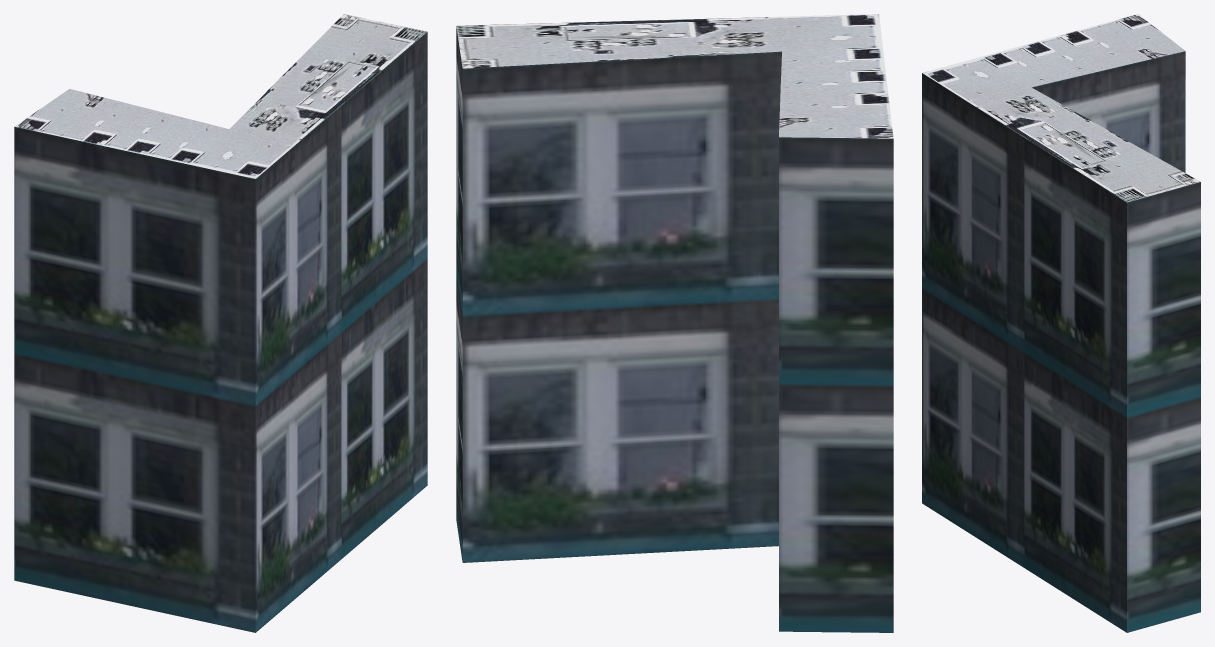
Rendered from ResTex__3564.fbx.
The picture shows the model from 3 angles, left to right: view 1: azimuth 30°, elevation 25°; view 2: azimuth 150°, elevation 25°; view 3: azimuth 270°, elevation 25°; orthographic projection. The views are drawn at different scales.
Parts seen in each view (by area): view 1: CityEngineMaterial_11_m, CityEngineMaterial_8_m; view 2: CityEngineMaterial_11_m, CityEngineMaterial_8_m; view 3: CityEngineMaterial_11_m, CityEngineMaterial_8_m.
Part boxes in pixels (x1,y1,x2,y2): CityEngineMaterial_11_m: (14, 32, 427, 632); CityEngineMaterial_8_m: (15, 14, 426, 178); CityEngineMaterial_11_m: (456, 27, 893, 632); CityEngineMaterial_8_m: (456, 14, 893, 138); CityEngineMaterial_11_m: (922, 51, 1200, 632); CityEngineMaterial_8_m: (922, 14, 1200, 202).
Bounding box in the file's own units: 5.64 × 6 × 3.52.
2 materials, 2 textured.
